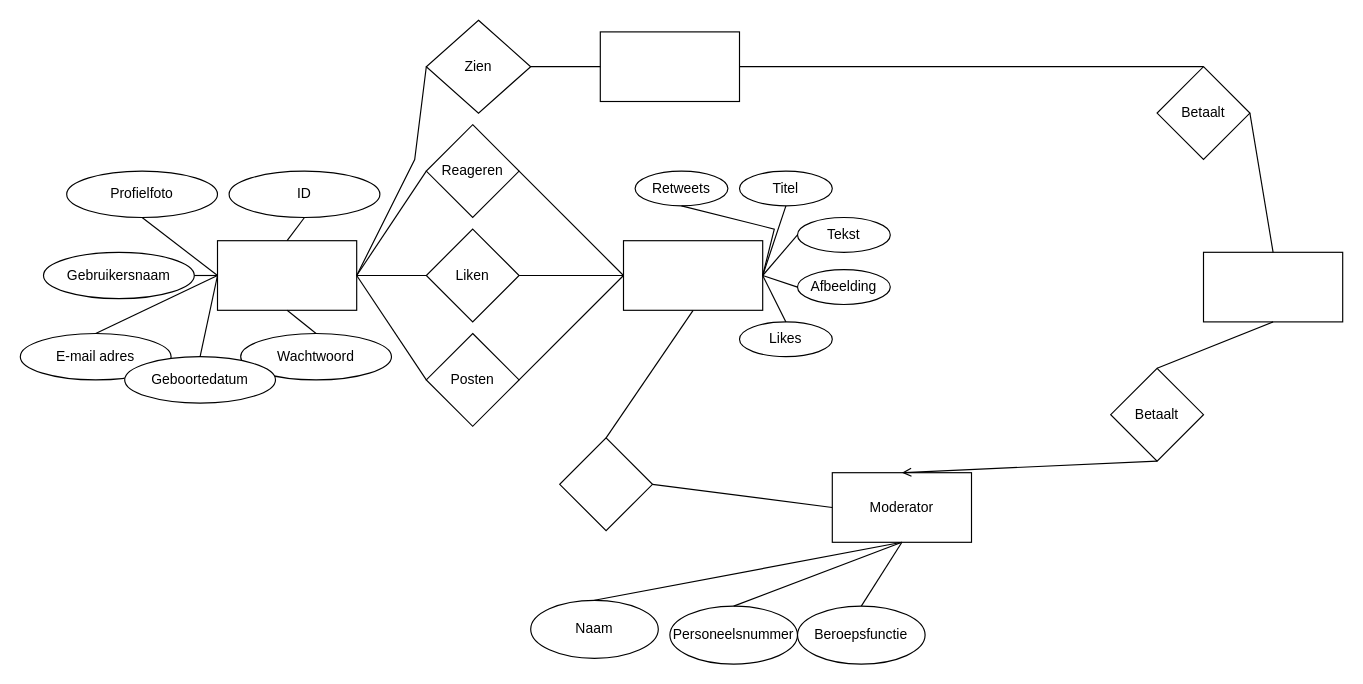
Image size: 1363x684. Some labels were removed from this diagram. The centre of each missing label's shape, as x and y in pixels:
Advertentie: [669,66]
Churpify: [1272,286]
Een "Tweet": [692,275]
Gebruiker: [286,275]
Modereert: [605,484]
